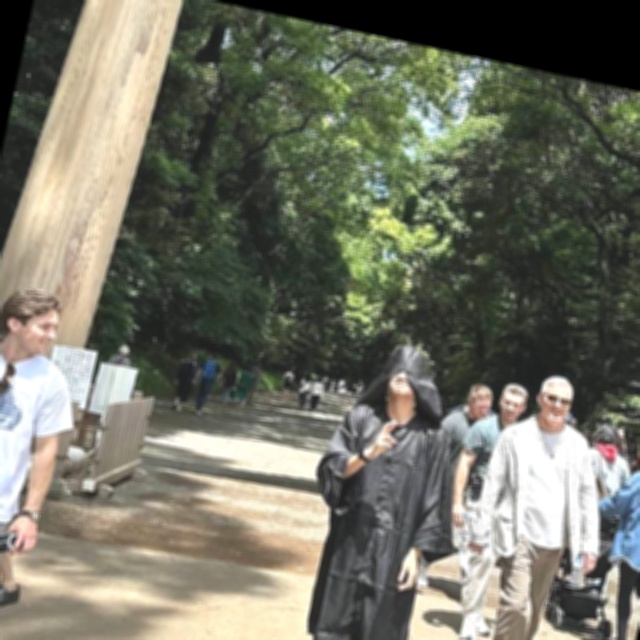Sin_Casco_Mascarrilla: (0, 282, 70, 364), (532, 373, 580, 431)
Sin_Chaleco: (308, 400, 472, 596), (475, 413, 609, 571), (0, 341, 88, 551)
